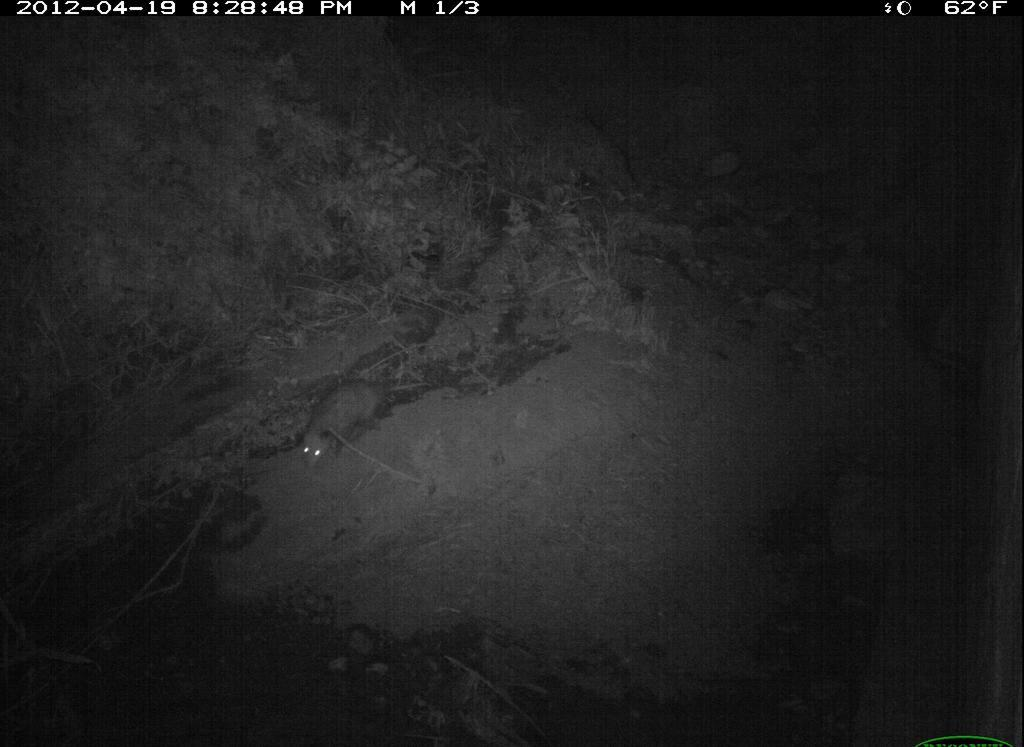opossum: (259, 343, 443, 523)
